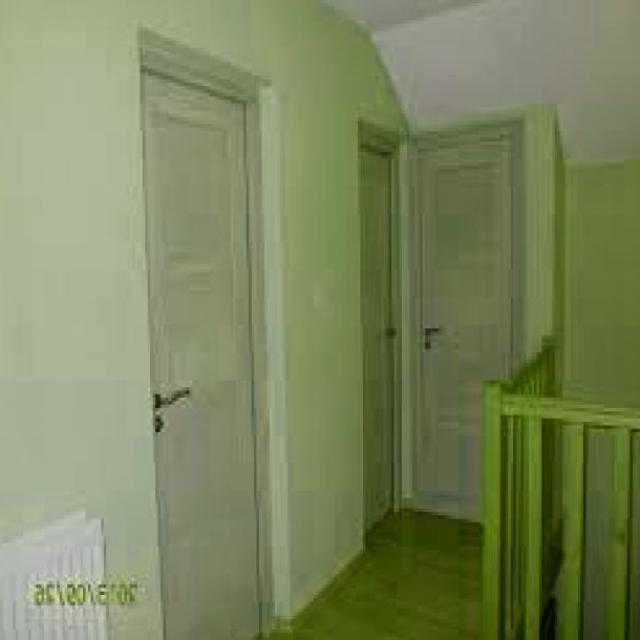door: (134, 62, 270, 640), (411, 129, 514, 523), (356, 125, 400, 540)
